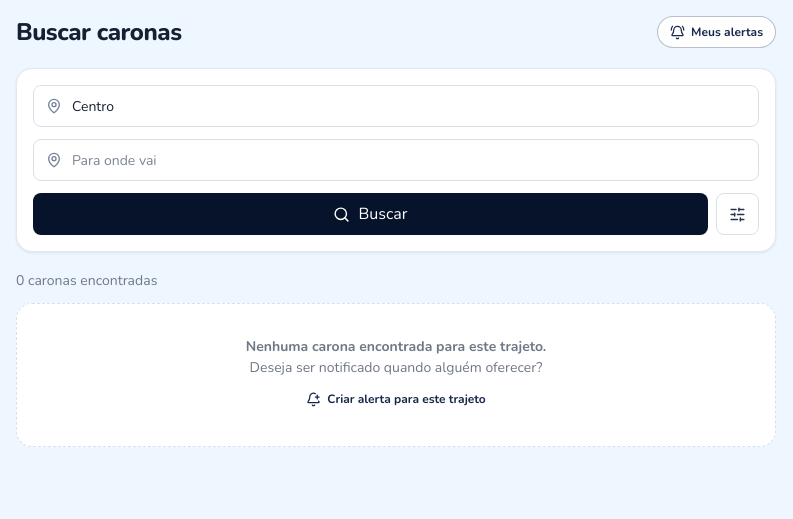
Test: realizarBusca › mostra erro quando a busca acionada pelo botão falha
The width and height of the screenshot is (793, 519).
Click the button "Buscar".
click(370, 214)  # box x1=33 y1=193 x2=708 y2=235
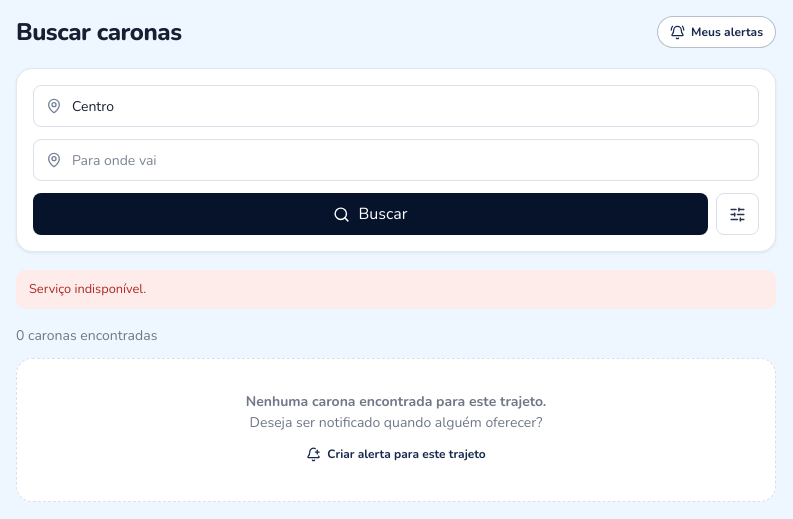
expect the message reads "Serviço indisponível.": met, box x1=29 y1=280 x2=146 y2=298
